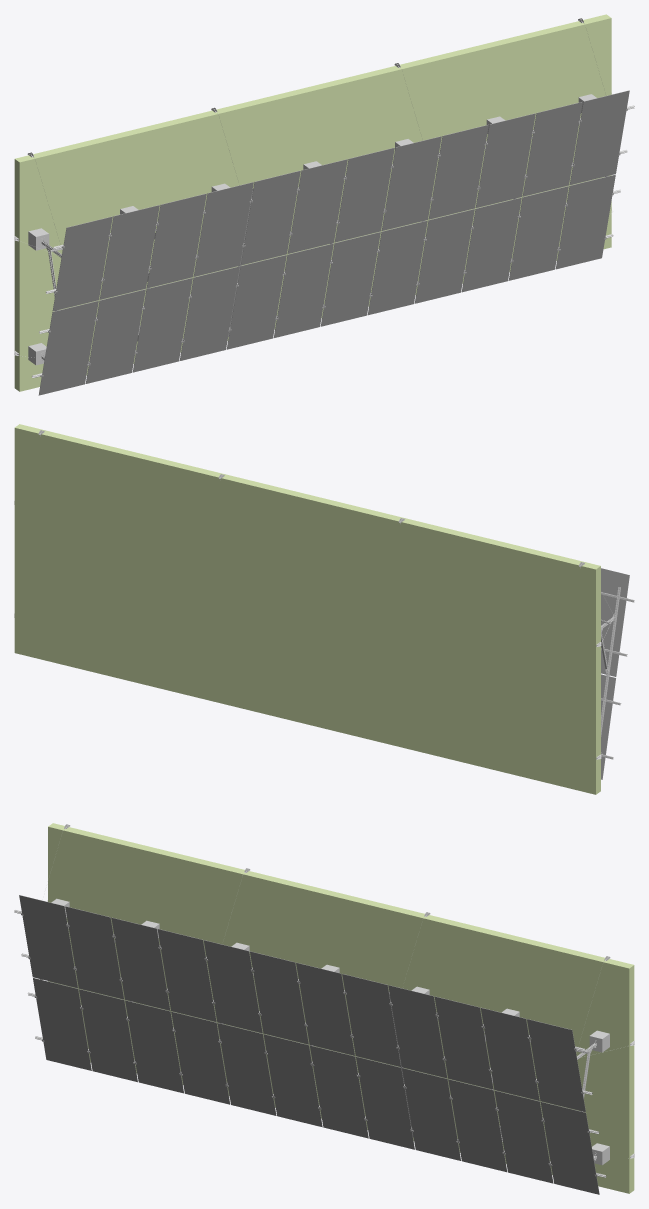
The model's file is NewProject.gltf.
The picture shows the model from 3 angles, top to bottom: view 1: azimuth 30°, elevation 25°; view 2: azimuth 150°, elevation 25°; view 3: azimuth 330°, elevation 25°; orthographic projection.
Parts seen in each view (by area): view 1: FamilySymbol 常规模型 <13972652 ZUJ043 JAM72S20-460/MR（35框） 460W (×20), FamilySymbol 常规模型 <13969664 光伏楼板>, FamilySymbol 常规模型 <13972642 ZUJ043 JAM72S20-460/MR（35框） 460W (×2), FamilySymbol 常规模型 <13972705 ZUJ043 JAM72S20-460/MR（35框） 460W (×2), FamilySymbol 常规模型 <13970437 72版型166电池2竖>; view 2: FamilySymbol 常规模型 <13969664 光伏楼板>, FamilySymbol 常规模型 <13972642 ZUJ043 JAM72S20-460/MR（35框） 460W (×2); view 3: FamilySymbol 常规模型 <13972652 ZUJ043 JAM72S20-460/MR（35框） 460W (×20), FamilySymbol 常规模型 <13969664 光伏楼板>, FamilySymbol 常规模型 <13972642 ZUJ043 JAM72S20-460/MR（35框） 460W (×2), FamilySymbol 常规模型 <13972705 ZUJ043 JAM72S20-460/MR（35框） 460W (×2), FamilySymbol 常规模型 <13970437 72版型166电池2竖>.
Part boxes in pixels (x1=…): FamilySymbol 常规模型 <13972652 ZUJ043 JAM72S20-460/MR（35框） 460W (×20): x1=85, y1=102, x2=582, y2=383; FamilySymbol 常规模型 <13969664 光伏楼板>: x1=14, y1=14, x2=611, y2=391; FamilySymbol 常规模型 <13972642 ZUJ043 JAM72S20-460/MR（35框） 460W (×2): x1=38, y1=216, x2=112, y2=395; FamilySymbol 常规模型 <13972705 ZUJ043 JAM72S20-460/MR（35框） 460W (×2): x1=555, y1=90, x2=629, y2=269; FamilySymbol 常规模型 <13970437 72版型166电池2竖>: x1=28, y1=228, x2=49, y2=365; FamilySymbol 常规模型 <13969664 光伏楼板>: x1=14, y1=424, x2=600, y2=794; FamilySymbol 常规模型 <13972642 ZUJ043 JAM72S20-460/MR（35框） 460W (×2): x1=601, y1=568, x2=629, y2=779; FamilySymbol 常规模型 <13972652 ZUJ043 JAM72S20-460/MR（35框） 460W (×20): x1=65, y1=906, x2=553, y2=1183; FamilySymbol 常规模型 <13969664 光伏楼板>: x1=48, y1=823, x2=634, y2=1193; FamilySymbol 常规模型 <13972642 ZUJ043 JAM72S20-460/MR（35框） 460W (×2): x1=19, y1=895, x2=91, y2=1070; FamilySymbol 常规模型 <13972705 ZUJ043 JAM72S20-460/MR（35框） 460W (×2): x1=527, y1=1019, x2=599, y2=1194; FamilySymbol 常规模型 <13970437 72版型166电池2竖>: x1=589, y1=1030, x2=609, y2=1165.
Bounding box in the file's own units: 13620 × 5060 × 1754.
